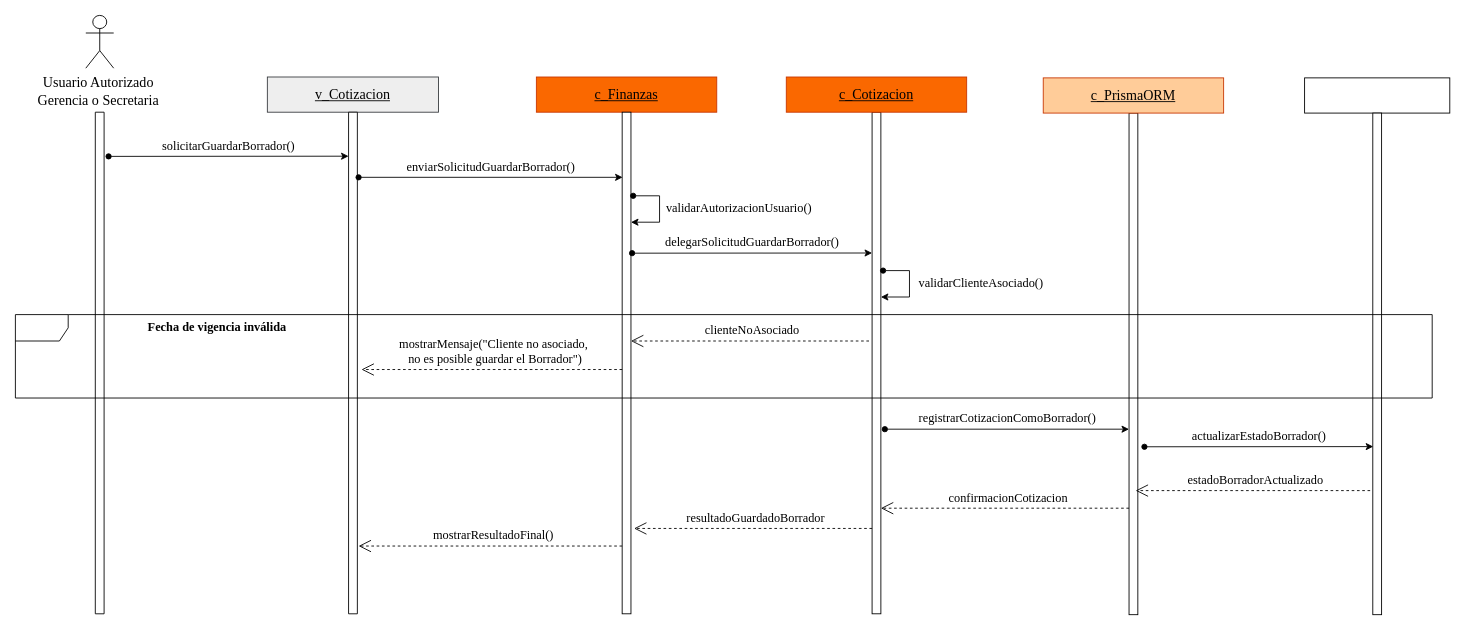
Image size: 1465x630. Some labels were removed from this diagram. Here are the shapes that lost their labels. From the top down, the centre of each, then its label:
At [1377,95]: "cotizacion".
At [723,356]: "Exc1".
